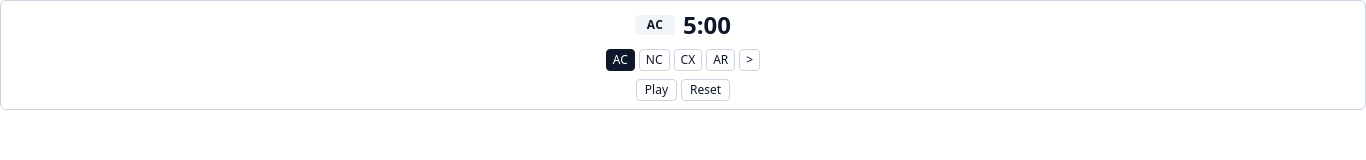
Test: SpeechTimer › selecting a speech relabels the running speech
Click the button "CX": [688, 60] box [674,49,702,71]
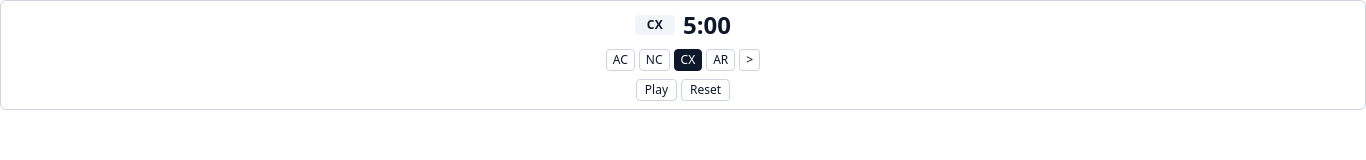
Expected: the text with test id "speech-label" reads "CX", [647,16,663,33]
Click the button "AR": [721, 60] box [706,49,735,71]
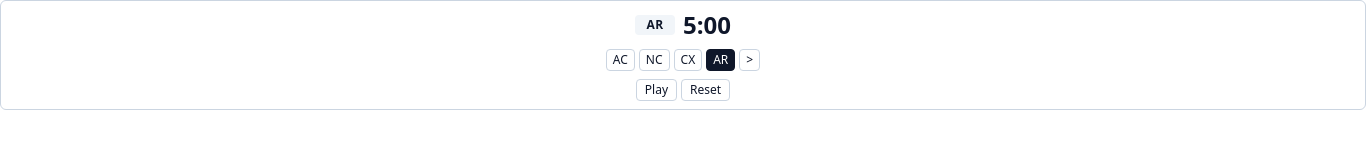
Expected: the text with test id "speech-label" reads "AR", [647,16,663,33]
